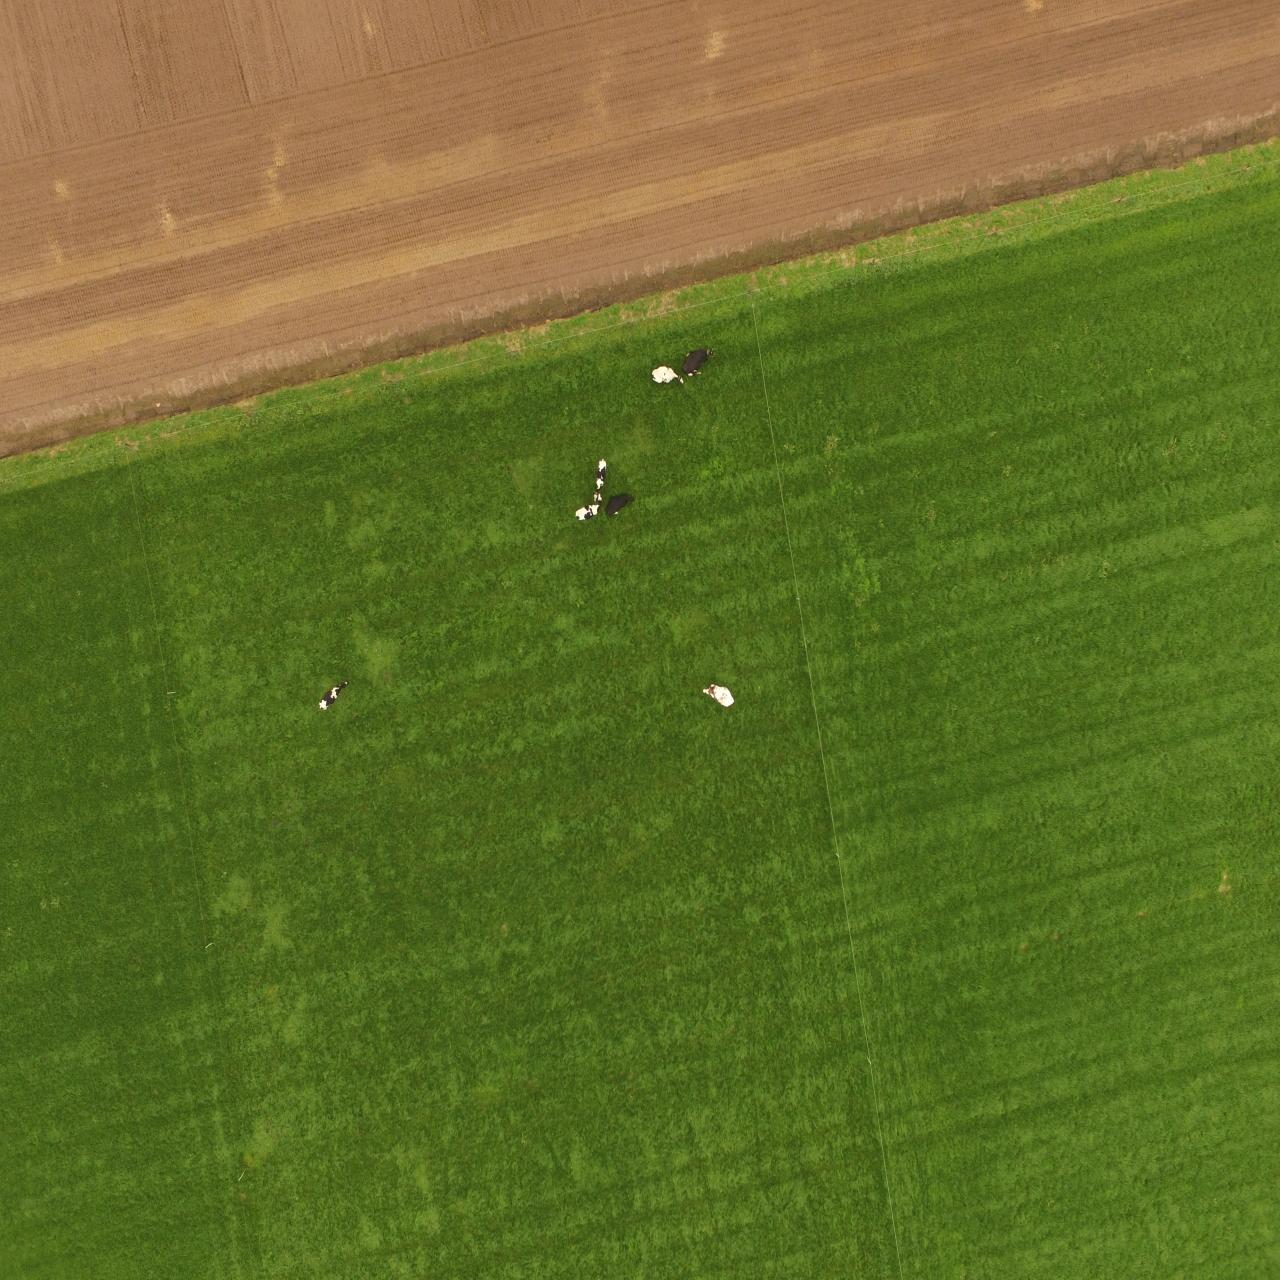cow: (681, 342, 717, 382), (316, 679, 352, 713), (702, 682, 738, 710), (606, 491, 638, 520), (649, 365, 686, 387), (571, 504, 607, 522), (595, 455, 610, 492)
